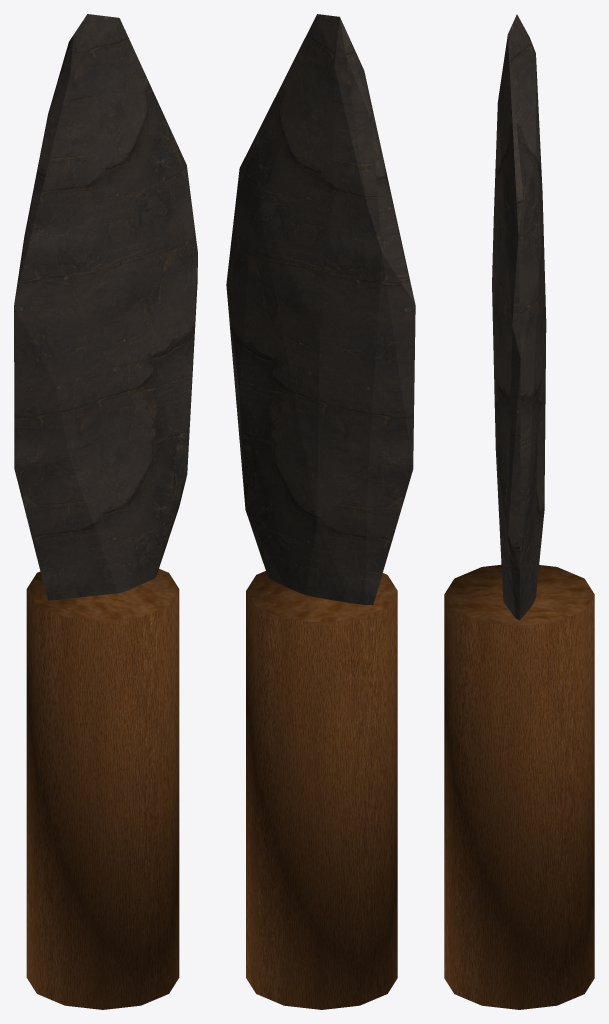
The model's file is SM_Item_flint_knife.gltf.
The picture shows the model from 3 angles, left to right: view 1: azimuth 30°, elevation 25°; view 2: azimuth 150°, elevation 25°; view 3: azimuth 270°, elevation 25°; orthographic projection.
Visible parts, largest first — view 1: SM_Item_flint_knife; view 2: SM_Item_flint_knife; view 3: SM_Item_flint_knife.
Boxes of the visible parts, x1=… form: SM_Item_flint_knife: x1=14, y1=14, x2=197, y2=1009; SM_Item_flint_knife: x1=226, y1=14, x2=415, y2=1009; SM_Item_flint_knife: x1=444, y1=14, x2=594, y2=1009.
Bounding box in the file's own units: 0.0453 × 0.2243 × 0.032.
Materials: 2 (2 with a texture image).
